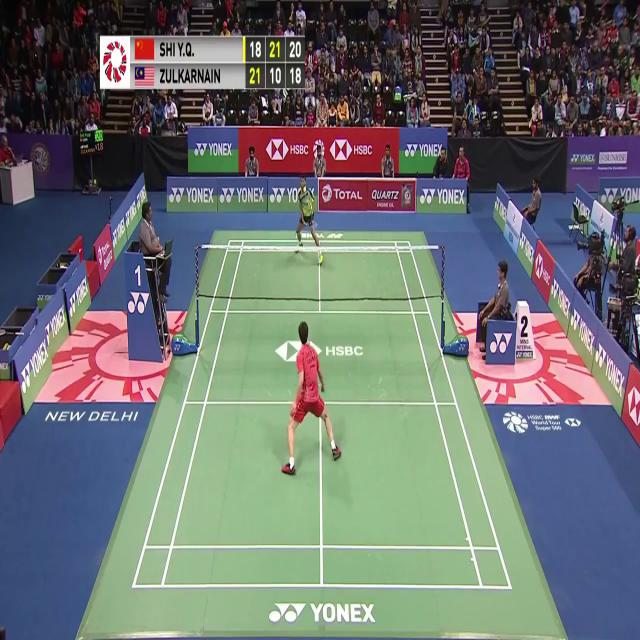Shuttlecock: (302, 184, 308, 195)
